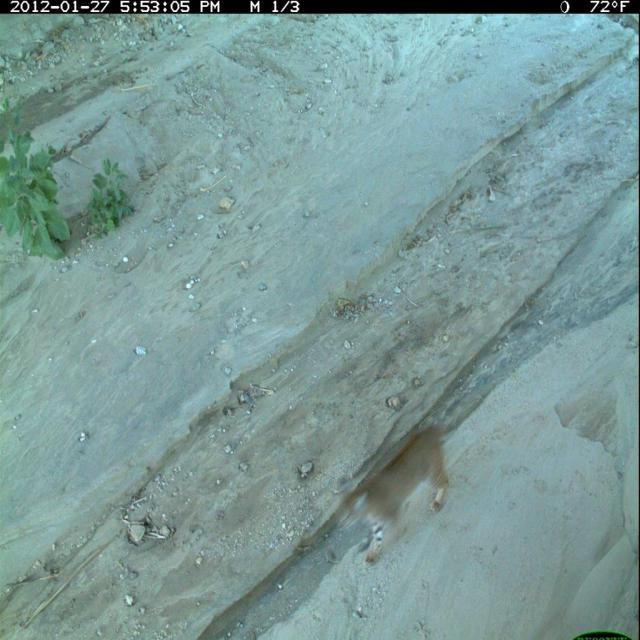bobcat: (335, 422, 458, 569)
